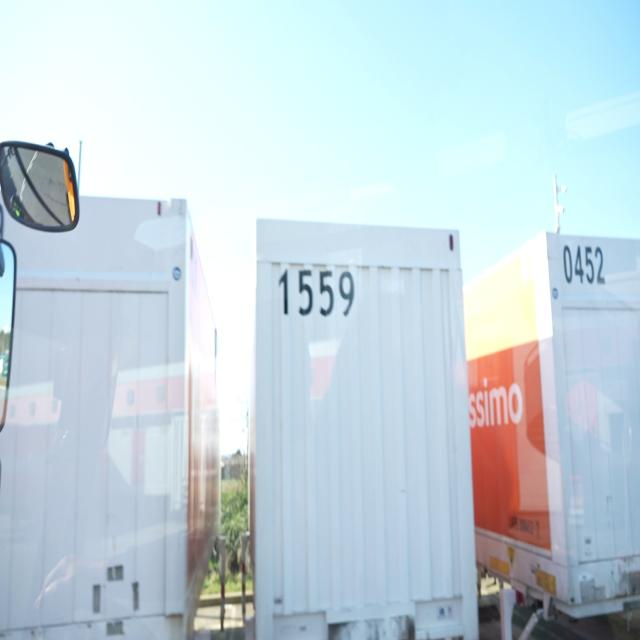Code: (276, 257, 357, 325), (558, 239, 610, 294)
